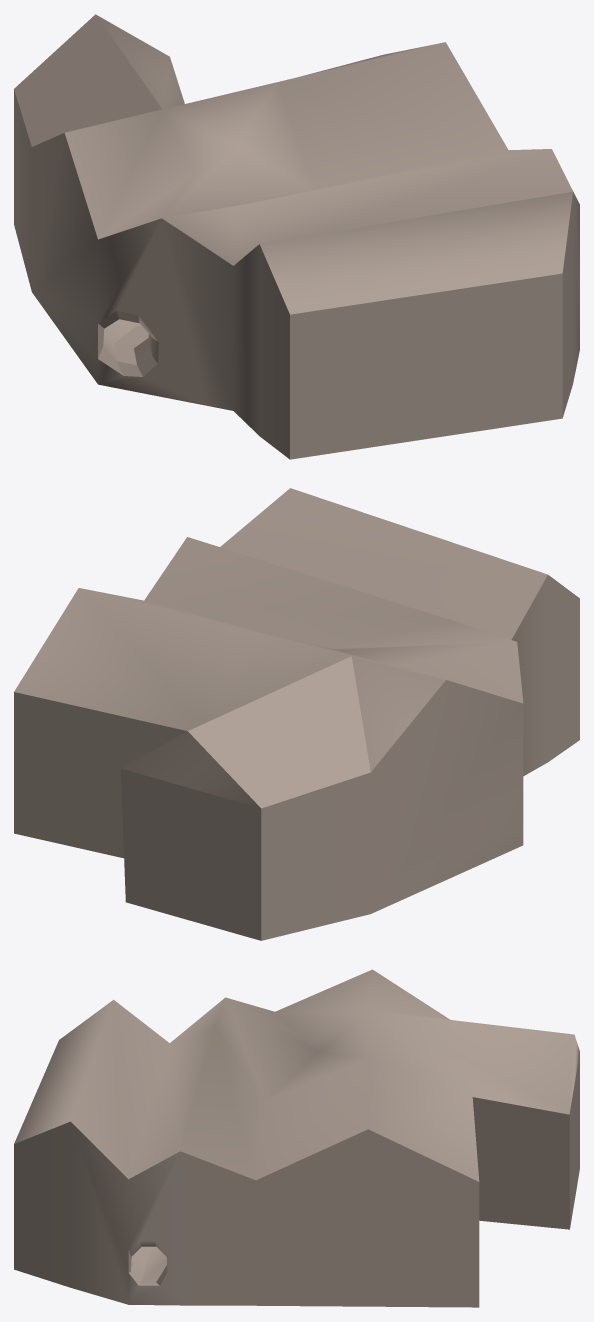
File: Building_Block_1.fbx
3 views of the same model, one above another, from view 1: azimuth 30°, elevation 25°; view 2: azimuth 150°, elevation 25°; view 3: azimuth 270°, elevation 25° (orthographic). The views are drawn at different scales.
Parts seen in each view (by area): view 1: pCylinder54; view 2: pCylinder54; view 3: pCylinder54.
Boxes of the visible parts, bbox=[...] form: pCylinder54: bbox=[14, 14, 579, 459]; pCylinder54: bbox=[14, 488, 579, 940]; pCylinder54: bbox=[14, 969, 579, 1307].
Size of the model in its own units: 18.48 by 8.97 by 25.95.
